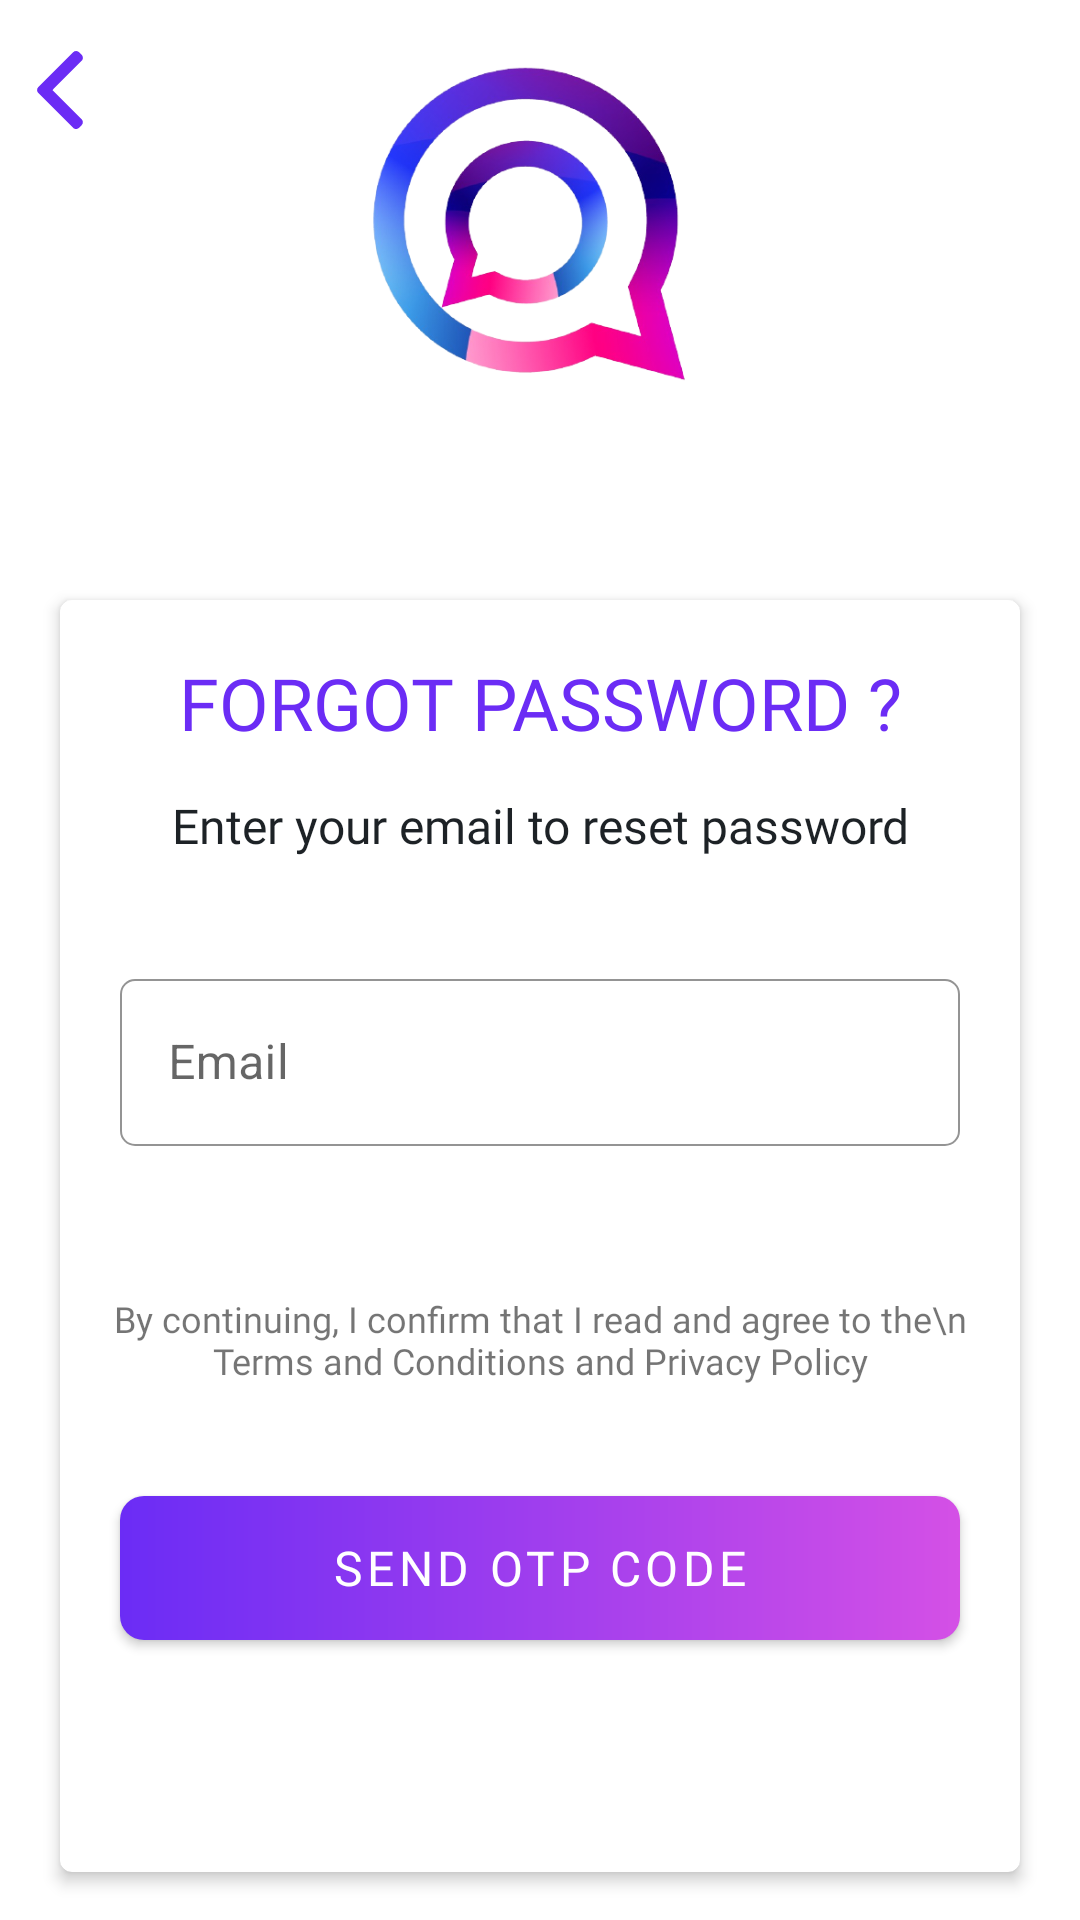

Icon bounding boxes for this 1080x1920 phone screenshot, format (x1=x1, y1=y1, x2=x2, y2=y2):
back: (x1=37, y1=51, x2=83, y2=129)
